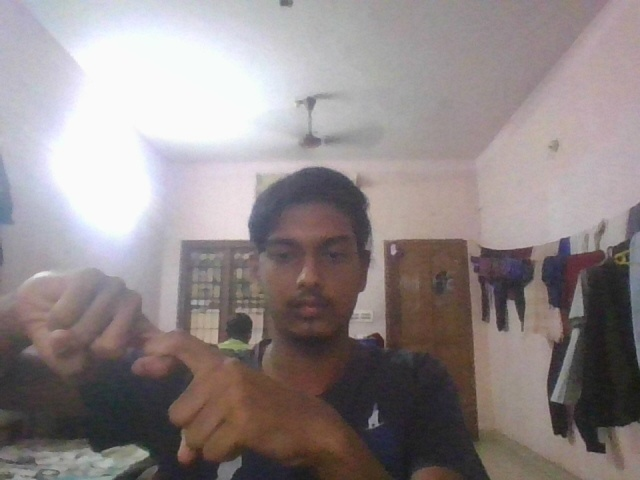friend: (1, 257, 303, 480)
